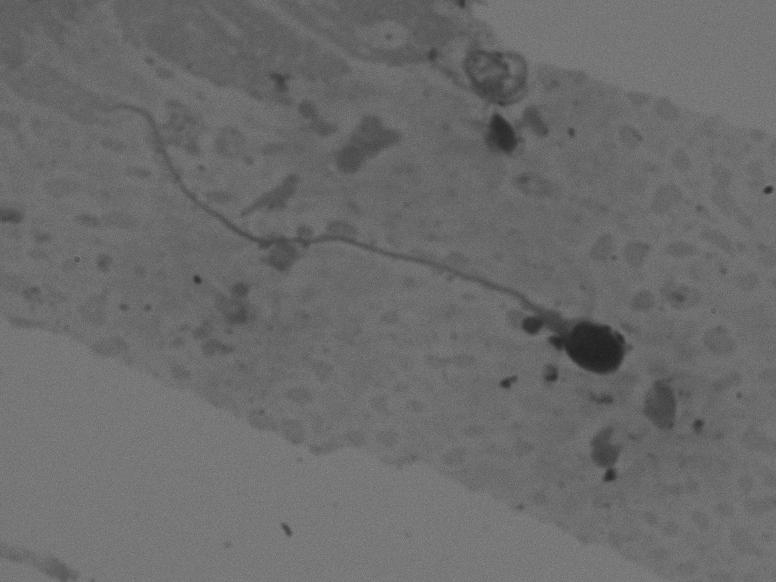Abnormal: (103, 83, 644, 399)
